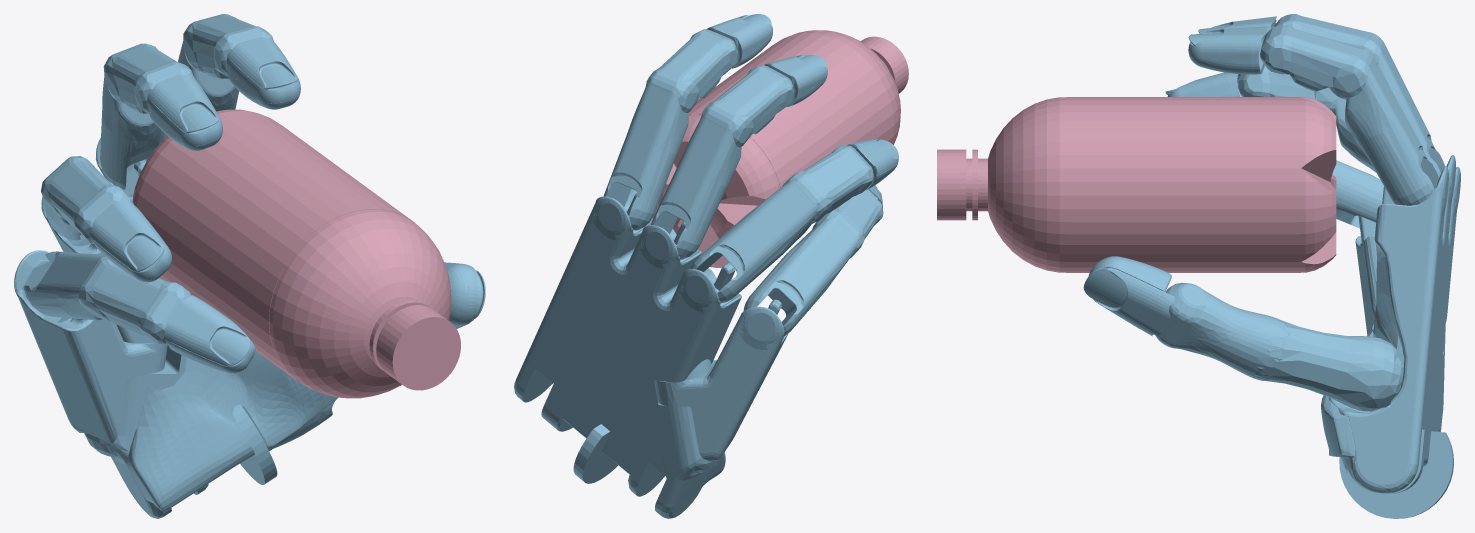
The picture shows the model from 3 angles, left to right: view 1: azimuth 30°, elevation 25°; view 2: azimuth 150°, elevation 25°; view 3: azimuth 270°, elevation 25°; orthographic projection. The views are drawn at different scales.
Visible parts, largest first — view 1: world, water_bottle.stl; view 2: world, water_bottle.stl; view 3: world, water_bottle.stl.
Part boxes in pixels (x1,y1,x2,y2): world: (14,14,485,518); water_bottle.stl: (132,109,460,398); world: (514,14,898,518); water_bottle.stl: (652,30,908,267); world: (1083,14,1460,518); water_bottle.stl: (937,97,1336,272).
Size of the model in its own units: 0.1244 by 0.1784 by 0.1791.
